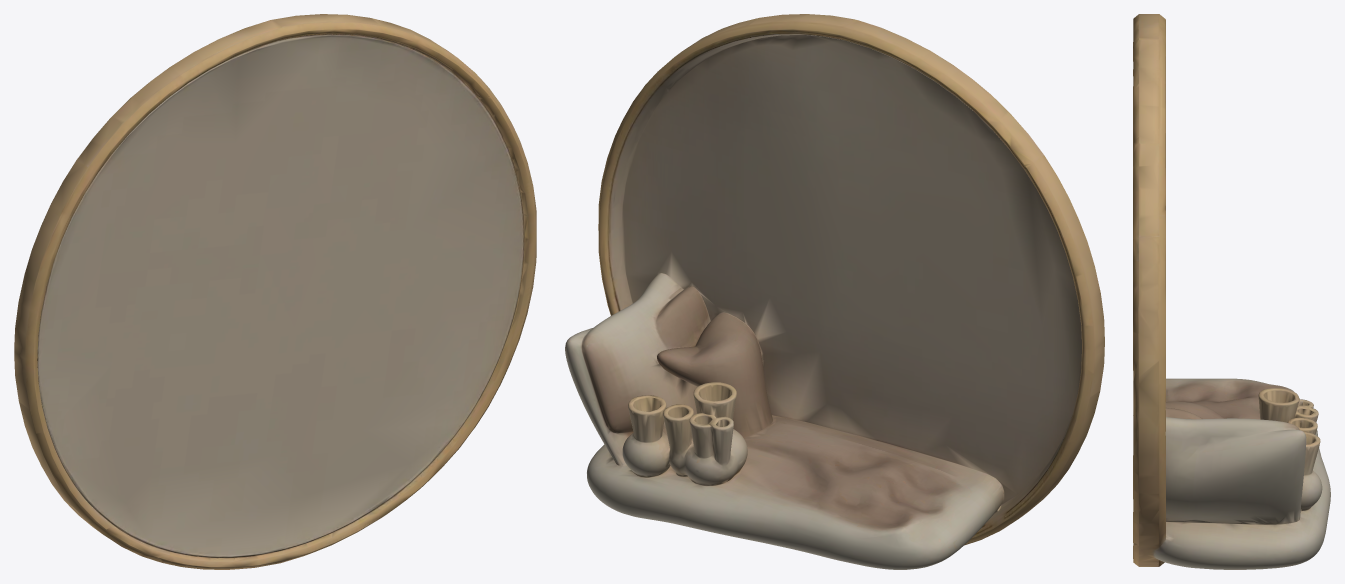
3 views of the same model, side by side, from view 1: azimuth 30°, elevation 25°; view 2: azimuth 150°, elevation 25°; view 3: azimuth 270°, elevation 25° (orthographic). The views are drawn at different scales.
Visible parts, largest first — view 1: material; view 2: material; view 3: material.
Part boxes in pixels (<box>): material: <box>14,14,536,569</box>; material: <box>565,14,1104,569</box>; material: <box>1133,14,1330,569</box>.
Size of the model in its own units: 1.11 by 1.11 by 0.3958.
Materials: 1 (1 with a texture image).
